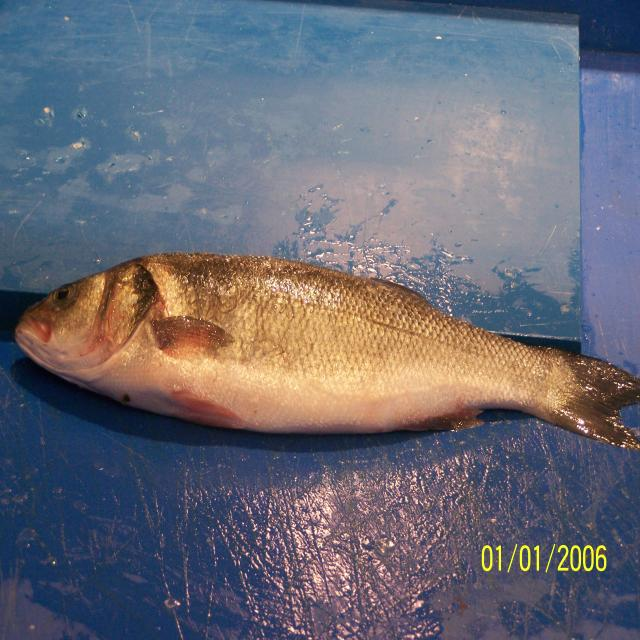Sea-Bass-levrek-: (14, 252, 640, 451)
